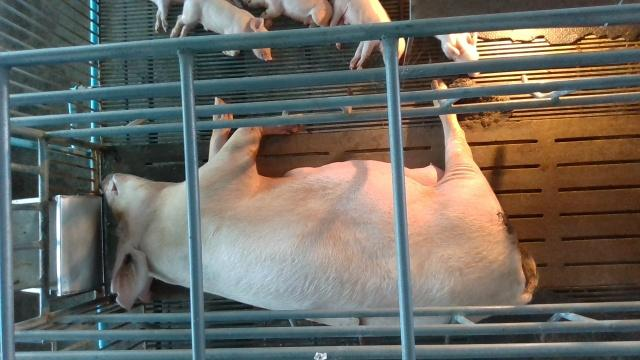piglet: (170, 0, 272, 61), (331, 0, 408, 69), (243, 0, 334, 28), (435, 31, 479, 77)
sow-sleep: (99, 77, 541, 328)
